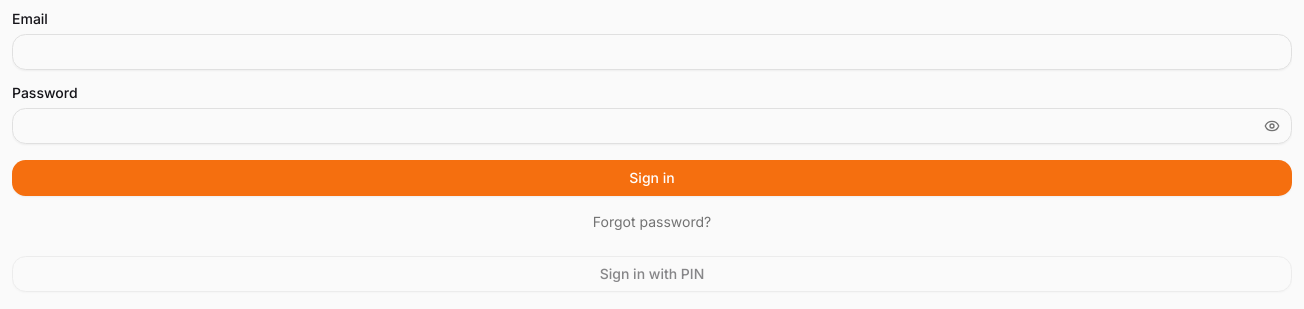
Test case: LoginForm 2FA challenge › challenge countdown › displays a countdown of the challenge expiry
Step 1. Type "staff@potatocorner.test" into the field labelled "Email" → (652, 52), box [12,34,1292,70]
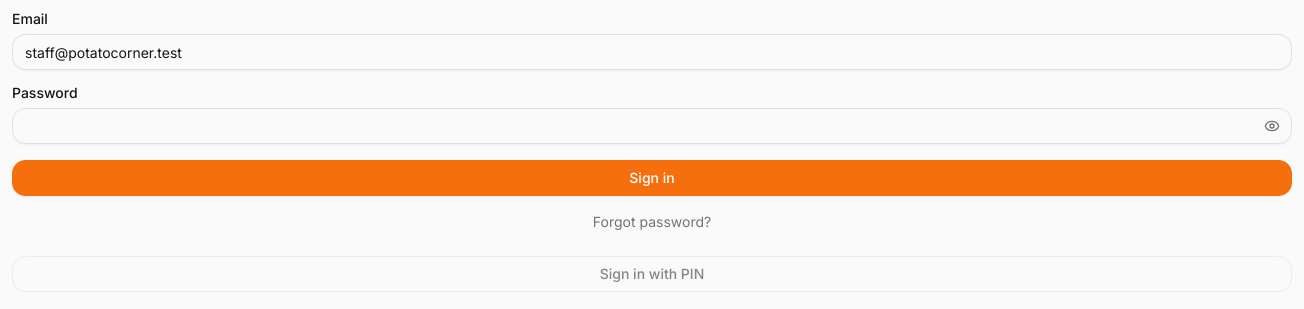
Step 2. Type "secret123" into the password field labelled "Password" → (652, 126), box [12,108,1292,144]
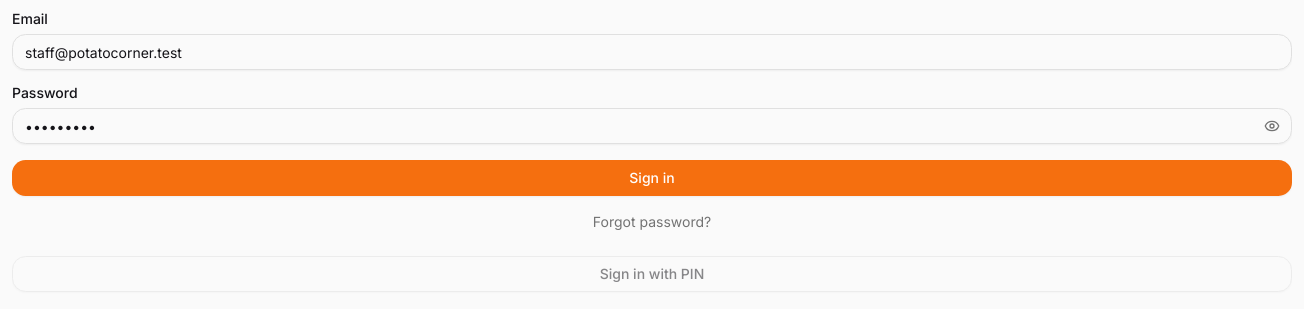
Step 3. Click the button "Sign in" → (652, 178), box [12,160,1292,196]
Wait 1000 ms
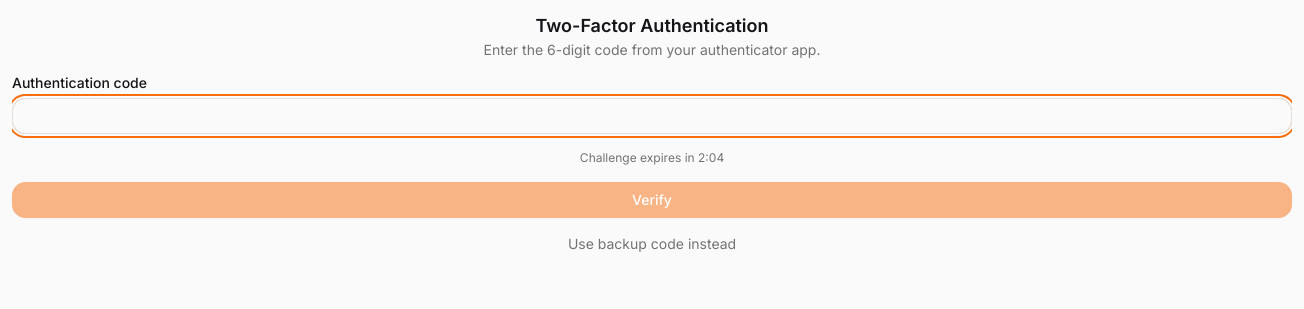
Expected: the text "Challenge expires in 2:04" is shown, [580,150,724,165]
